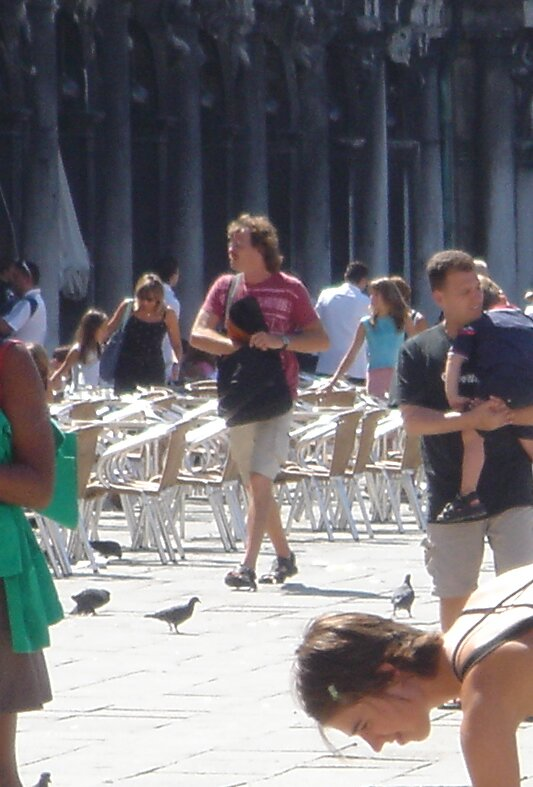person: (191, 205, 312, 596), (401, 244, 533, 588), (280, 602, 533, 780), (1, 304, 88, 787), (100, 268, 184, 388), (345, 279, 415, 410)
